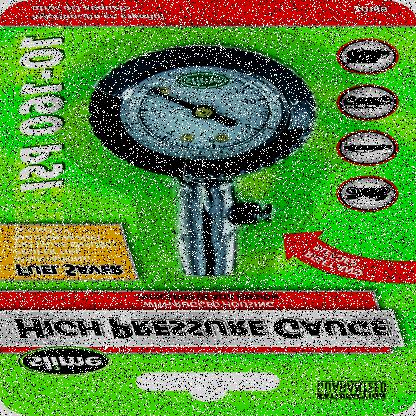needle: (141, 86, 198, 111)
